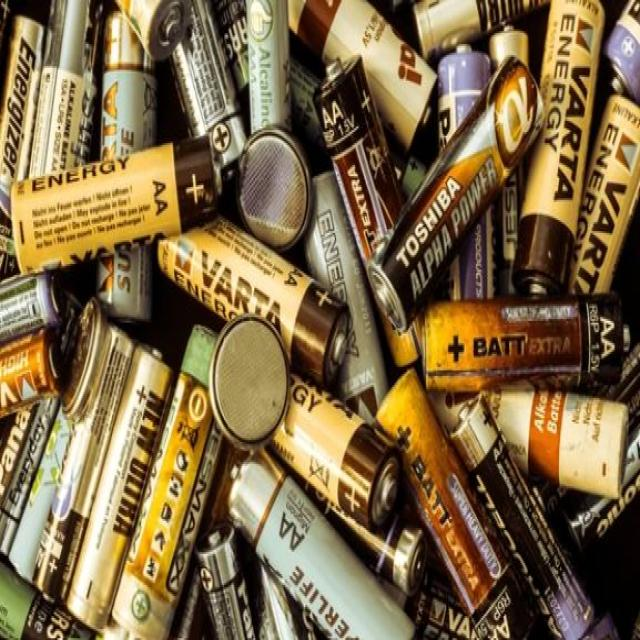electronic: (8, 137, 242, 284)
